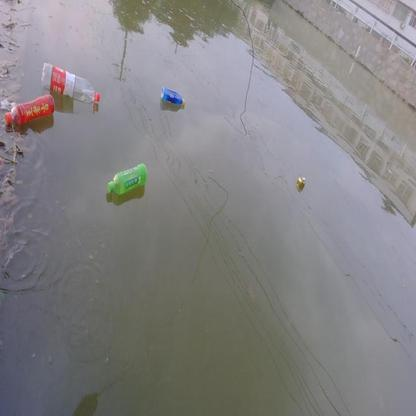can: (296, 175, 307, 190)
plastic bottle: (41, 63, 100, 105), (5, 94, 54, 124), (106, 162, 148, 195), (160, 87, 186, 107)
